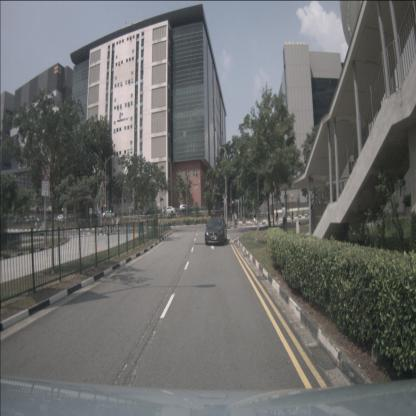human-pedestrian-adult: (281, 204, 287, 233), (275, 208, 279, 226), (112, 217, 115, 235), (253, 210, 256, 226), (230, 210, 233, 224), (233, 210, 236, 224)
vehicle-car: (205, 217, 227, 245), (162, 206, 176, 215), (56, 214, 69, 223), (103, 210, 115, 218), (89, 212, 100, 220), (179, 204, 190, 212), (143, 208, 155, 215), (66, 214, 75, 222), (30, 216, 40, 223), (43, 215, 51, 222), (22, 216, 29, 224)
